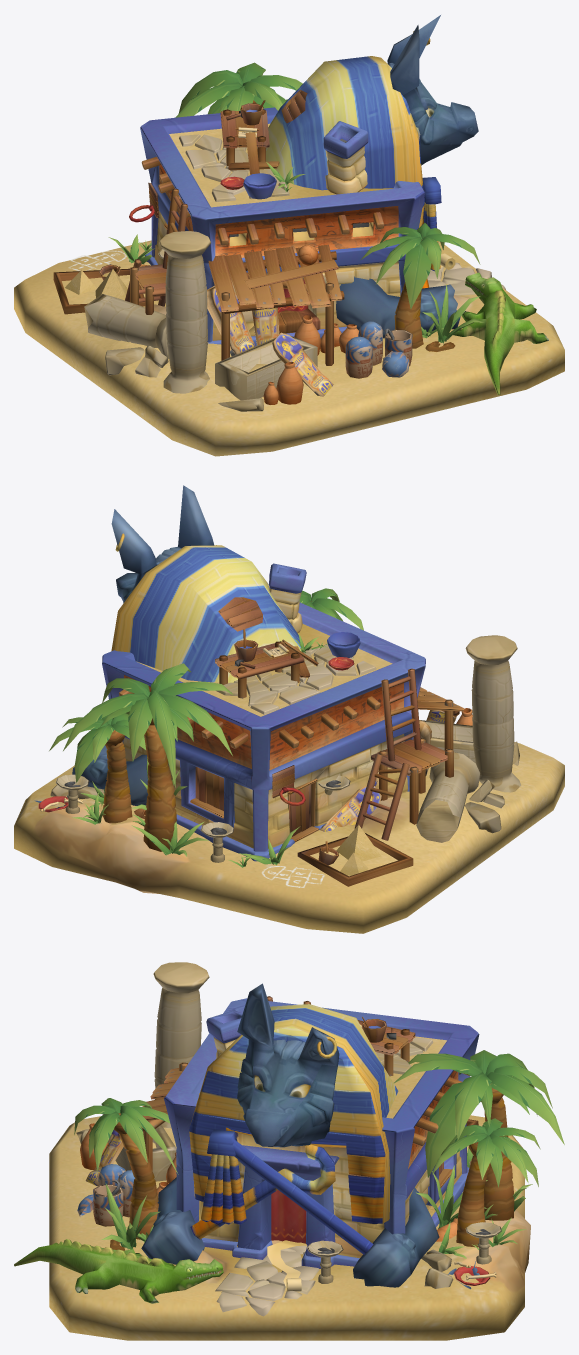
3 renders of one model, top to bottom at view 1: azimuth 30°, elevation 25°; view 2: azimuth 150°, elevation 25°; view 3: azimuth 270°, elevation 25°, orthographic. The views are drawn at different scales.
Parts seen in each view (by area): view 1: house, ground, sarcophagi, columns, vegetation, rooftop, crocodile, workbench, playground, stairs; view 2: house, ground, vegetation, columns, stairs, workbench, playground, sarcophagi, rooftop; view 3: house, ground, vegetation, crocodile, columns, sarcophagi, workbench, rooftop, roll, food.
Part boxes in pixels (box(x1,y1,x2,y2)): house: box(129, 15, 478, 346); ground: box(14, 240, 564, 456); sarcophagi: box(207, 285, 412, 404); columns: box(84, 231, 263, 411); vegetation: box(108, 62, 484, 351); rooftop: box(208, 244, 344, 365); crocodile: box(453, 272, 548, 394); workbench: box(220, 100, 279, 199); playground: box(53, 250, 145, 314); stairs: box(125, 188, 187, 314); house: box(72, 485, 425, 861); ground: box(14, 743, 564, 933); vegetation: box(49, 588, 363, 867); columns: box(416, 635, 521, 842); stairs: box(354, 668, 453, 840); workbench: box(215, 629, 360, 698); playground: box(261, 824, 413, 887); sarcophagi: box(419, 708, 475, 775); rooftop: box(417, 687, 464, 750); house: box(141, 983, 479, 1287); ground: box(49, 1115, 530, 1340); vegetation: box(74, 1050, 564, 1288); crocodile: box(14, 1239, 223, 1303); columns: box(76, 962, 209, 1143); sarcophagi: box(77, 1114, 176, 1226); workbench: box(357, 1017, 415, 1076); rooftop: box(141, 1062, 187, 1170); roll: box(267, 1240, 306, 1291); food: box(447, 1261, 496, 1289).
Size of the model in its own units: 26.01 by 21.4 by 29.62.
Materials: 4 (4 with a texture image).
